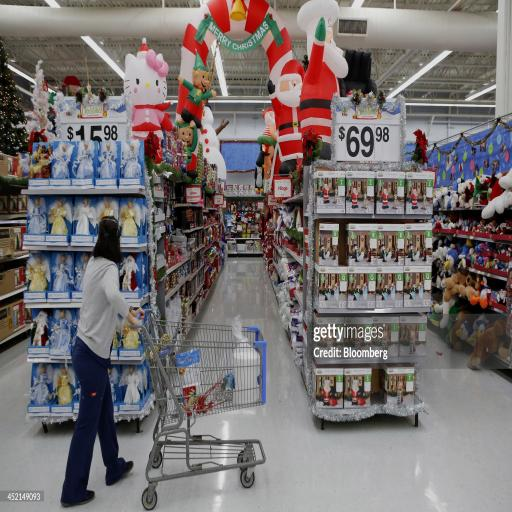shopping_cart: (129, 307, 267, 511)
